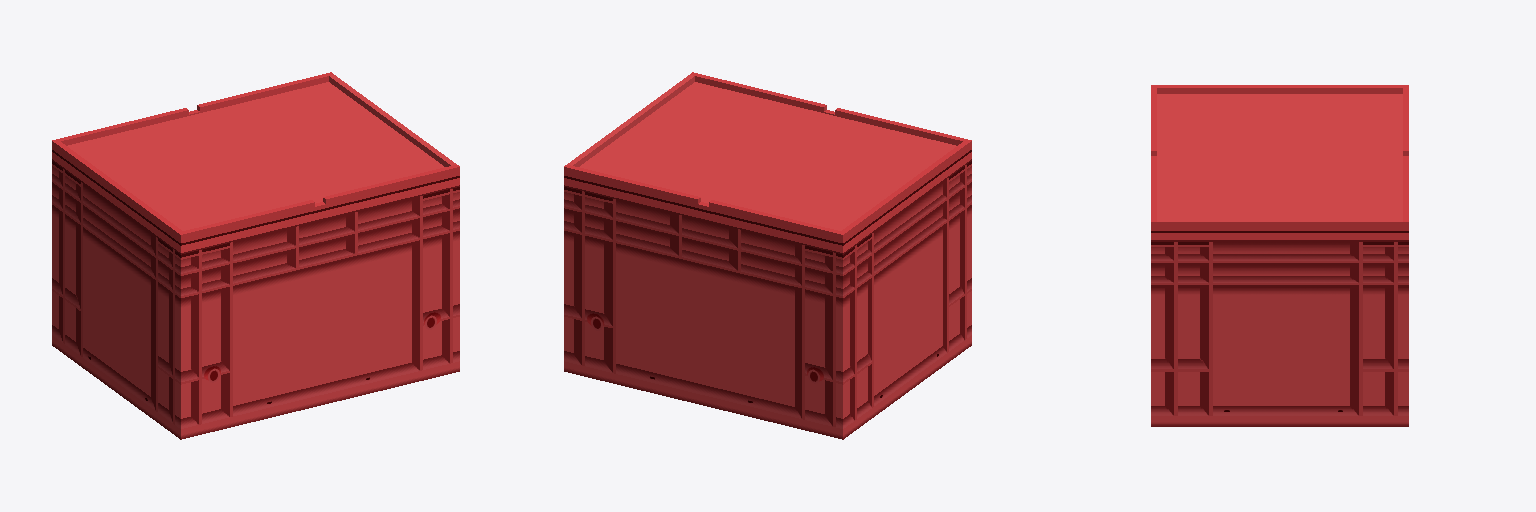
3 renders of one model, left to right at view 1: azimuth 30°, elevation 25°; view 2: azimuth 150°, elevation 25°; view 3: azimuth 270°, elevation 25°, orthographic.
Visible parts, largest first — view 1: Mesh1; view 2: Mesh1; view 3: Mesh1.
Part boxes in pixels (left/top/right/bottom): Mesh1: left=52, top=72, right=459, bottom=439; Mesh1: left=564, top=72, right=971, bottom=439; Mesh1: left=1151, top=85, right=1408, bottom=426.
Size of the model in its own units: 500 by 350 by 400.
1 materials, 1 textured.